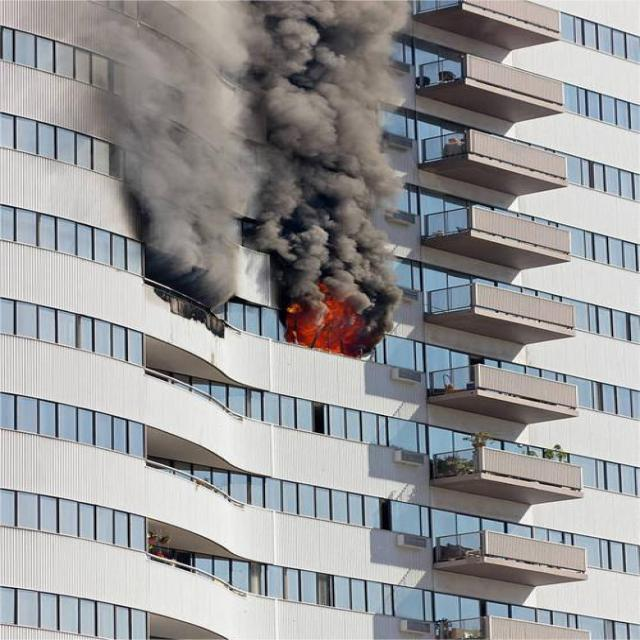Fire: (280, 280, 378, 356)
Smoke: (95, 0, 406, 306)
